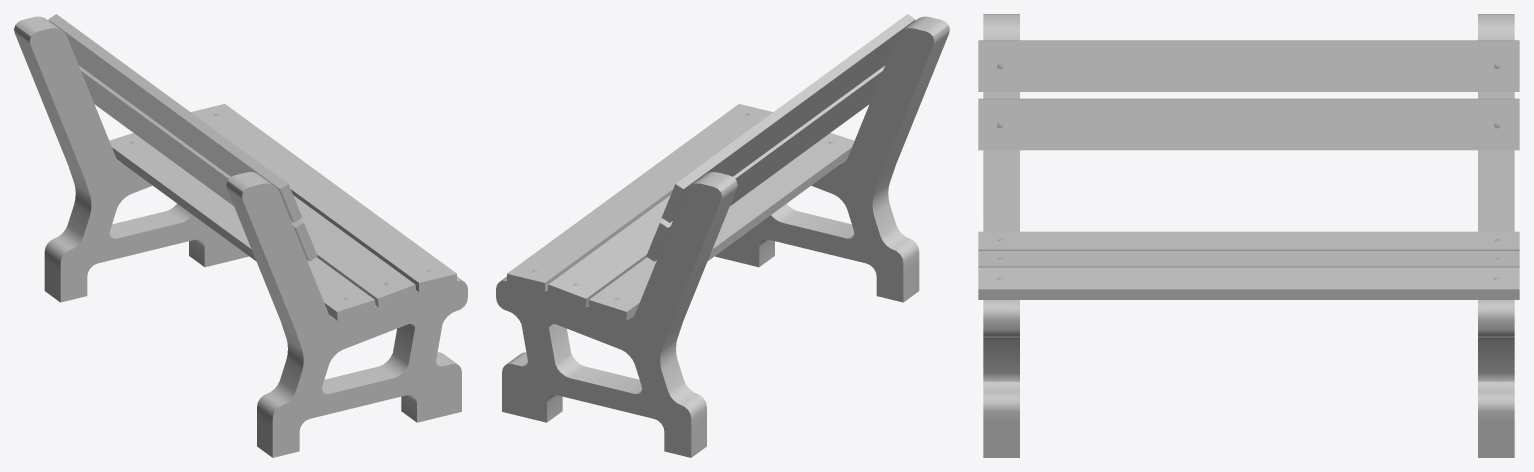
The picture shows the model from 3 angles, left to right: view 1: azimuth 30°, elevation 25°; view 2: azimuth 150°, elevation 25°; view 3: azimuth 270°, elevation 25°; orthographic projection. The views are drawn at different scales.
Parts seen in each view (by area): view 1: Core_0, Planks_1; view 2: Core_0, Planks_1; view 3: Planks_1, Core_0.
Part boxes in pixels (box(x1,y1,x2,y2)): Core_0: box(14, 16, 467, 457); Planks_1: box(48, 14, 456, 320); Core_0: box(496, 16, 949, 457); Planks_1: box(507, 14, 915, 320); Planks_1: box(978, 40, 1519, 299); Core_0: box(983, 14, 1514, 457).
Bounding box in the file's own units: 10.05 × 11.76 × 17.9.
